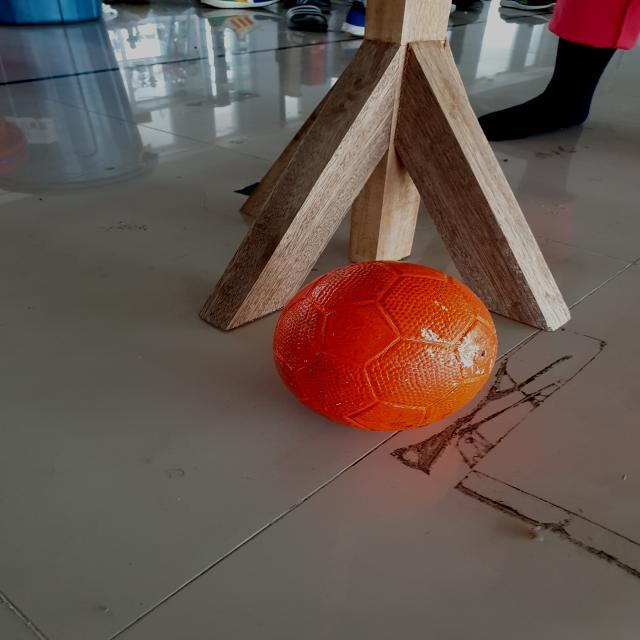bola: (264, 253, 502, 431)
